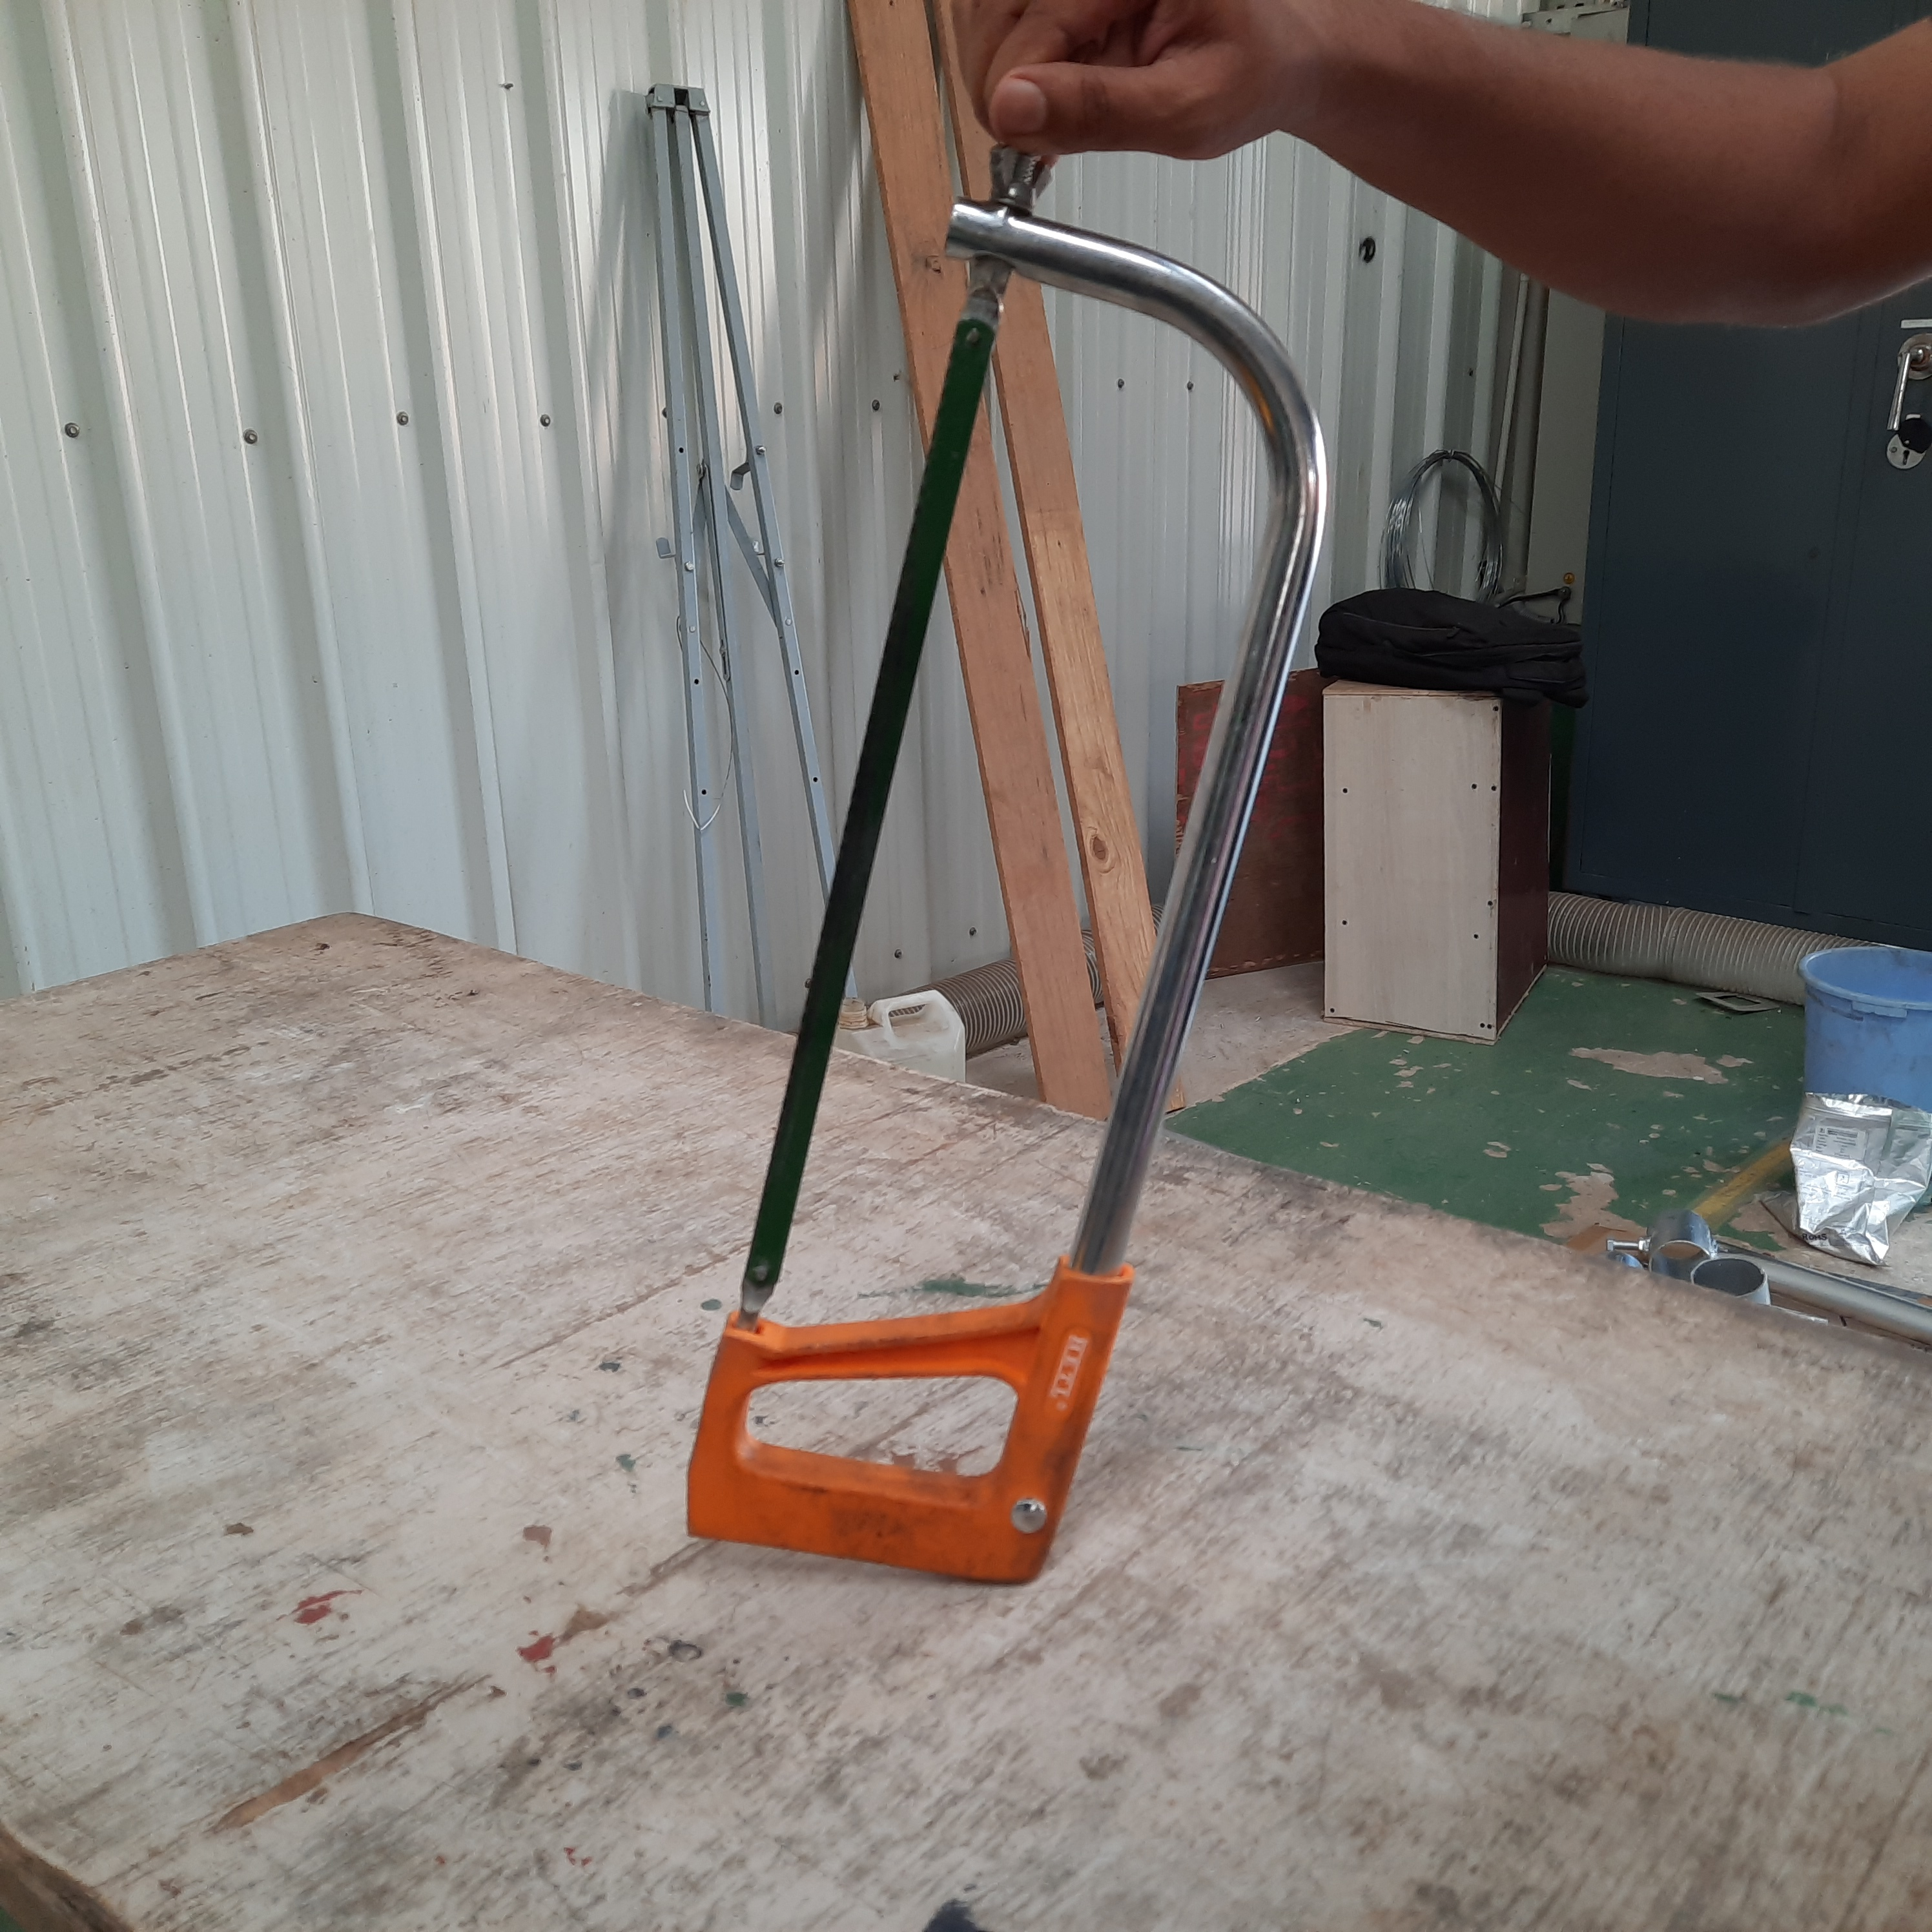Hexaframe: (678, 142, 1286, 1635)
